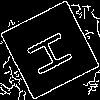H: (25, 25, 82, 78)
